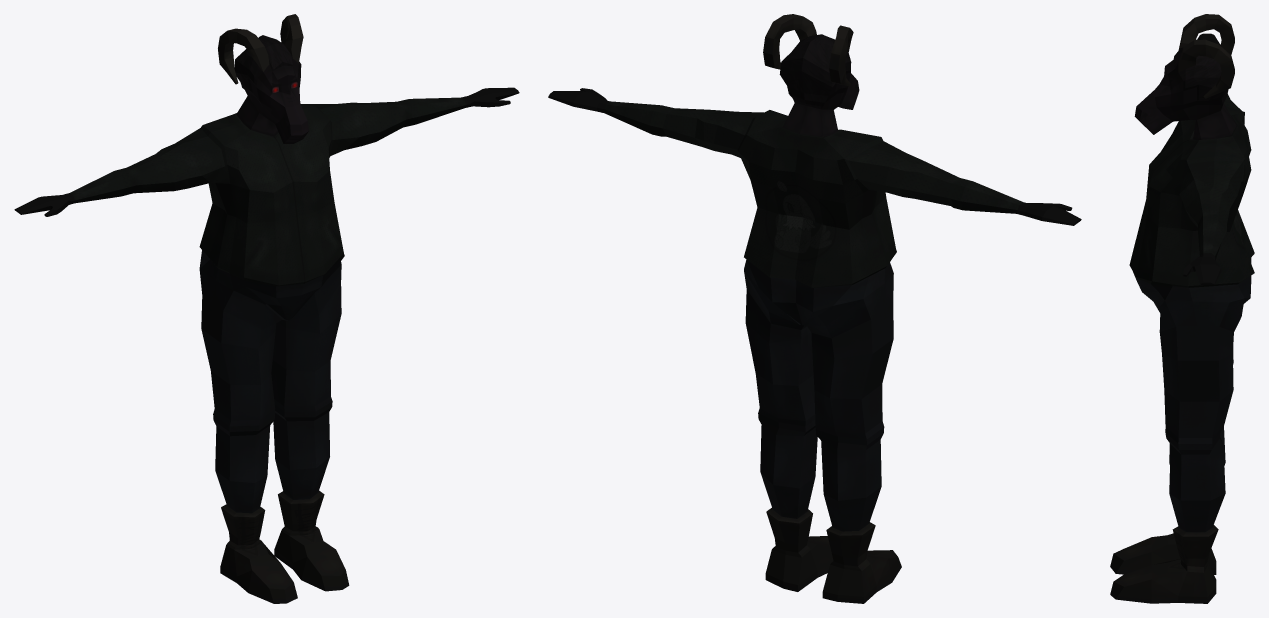
File: Stalker.fbx
The picture shows the model from 3 angles, left to right: view 1: azimuth 30°, elevation 25°; view 2: azimuth 150°, elevation 25°; view 3: azimuth 270°, elevation 25°; orthographic projection. The views are drawn at different scales.
Parts seen in each view (by area): view 1: Cube; view 2: Cube; view 3: Cube.
Part boxes in pixels (x1=…): Cube: x1=14, y1=14, x2=519, y2=603; Cube: x1=548, y1=14, x2=1081, y2=603; Cube: x1=1110, y1=14, x2=1254, y2=603.
Bounding box in the file's own units: 183 × 189 × 44.96.
